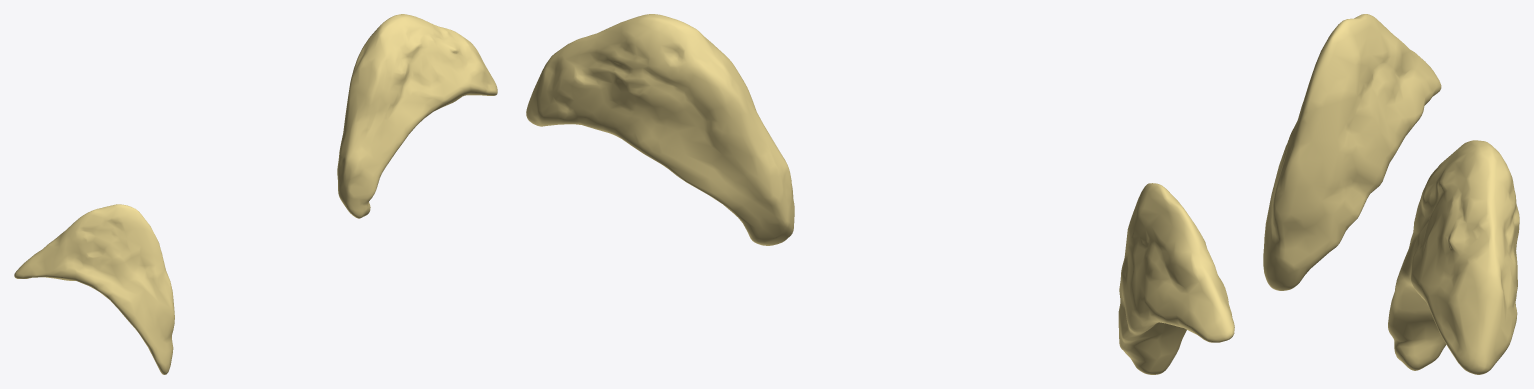
Rendered from surreni-test.glb.
3 renders of one model, left to right at view 1: azimuth 30°, elevation 25°; view 2: azimuth 150°, elevation 25°; view 3: azimuth 270°, elevation 25°, orthographic. The views are drawn at different scales.
Visible parts, largest first — view 1: Suprarenal gland.l, Suprarenal gland.r; view 2: Suprarenal gland.l, Suprarenal gland.r; view 3: Suprarenal gland.r, Suprarenal gland.l.
Boxes of the visible parts, x1,y1,x2,y2 form: Suprarenal gland.l: (337, 14, 497, 218); Suprarenal gland.r: (14, 204, 174, 374); Suprarenal gland.l: (526, 14, 794, 245); Suprarenal gland.r: (1118, 183, 1234, 374); Suprarenal gland.r: (1263, 14, 1441, 290); Suprarenal gland.l: (1388, 140, 1519, 374).
Size of the model in its own units: 0.138 by 0.0627 by 0.0392.
